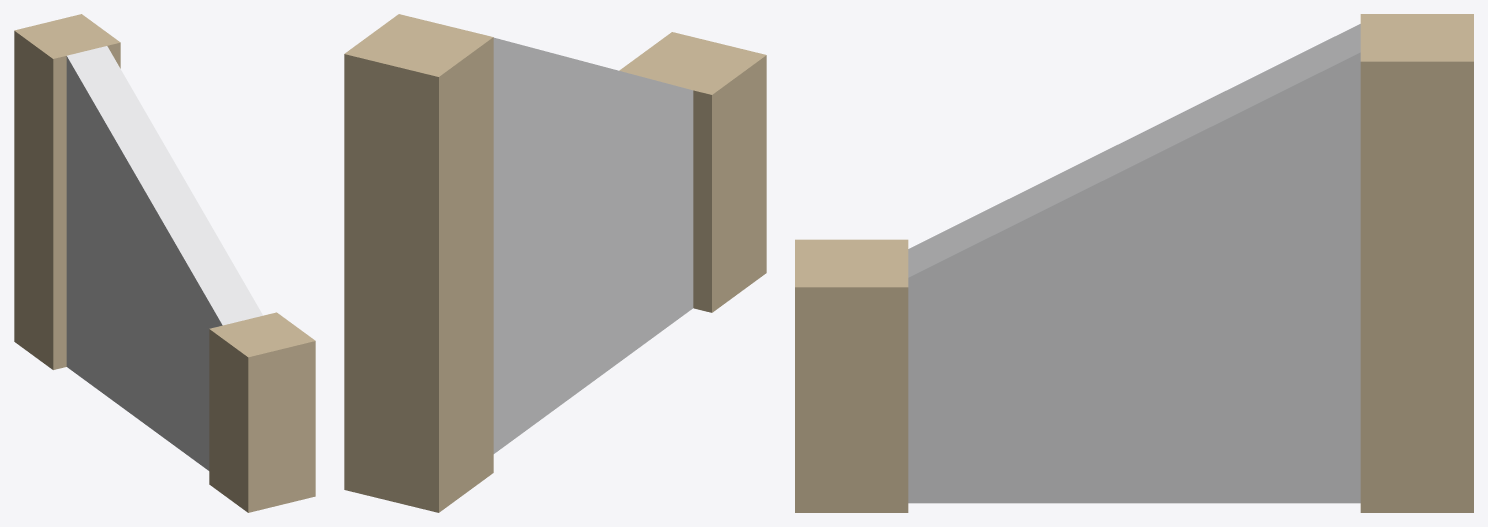
The model's file is Wood_Slanted_Wall_01.glb.
The picture shows the model from 3 angles, left to right: view 1: azimuth 30°, elevation 25°; view 2: azimuth 150°, elevation 25°; view 3: azimuth 270°, elevation 25°; orthographic projection. The views are drawn at different scales.
Parts seen in each view (by area): view 1: Mesh1 Wood_Slanted_Wall Model; view 2: Mesh1 Wood_Slanted_Wall Model; view 3: Mesh1 Wood_Slanted_Wall Model.
Part boxes in pixels (x1=…): Mesh1 Wood_Slanted_Wall Model: x1=14, y1=14, x2=315, y2=512; Mesh1 Wood_Slanted_Wall Model: x1=344, y1=14, x2=766, y2=512; Mesh1 Wood_Slanted_Wall Model: x1=795, y1=14, x2=1473, y2=512.
Bounding box in the file's own units: 0.5 × 2.2 × 3.
